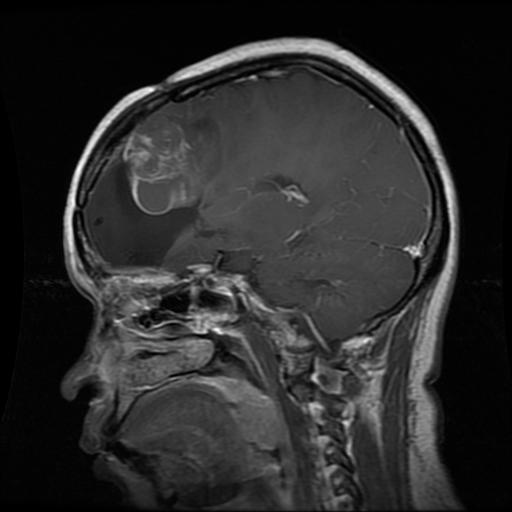Gliomia_tumour: (83, 116, 224, 266)
